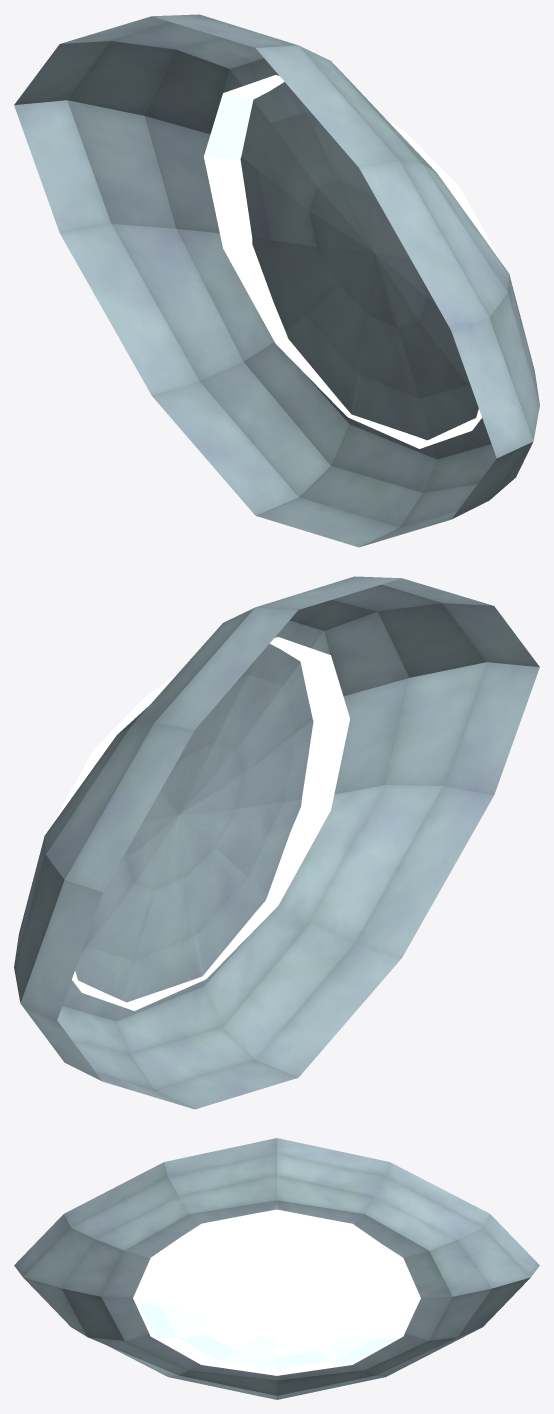
File: ass_13_lights(wall).fbx
3 renders of one model, top to bottom at view 1: azimuth 30°, elevation 25°; view 2: azimuth 150°, elevation 25°; view 3: azimuth 270°, elevation 25°, orthographic. The views are drawn at different scales.
Visible parts, largest first — view 1: pSphere3; view 2: pSphere3; view 3: pSphere3.
Boxes of the visible parts, left/top/right/bottom form: pSphere3: left=14, top=14, right=539, bottom=547; pSphere3: left=14, top=576, right=539, bottom=1109; pSphere3: left=14, top=1138, right=539, bottom=1399.
Bounding box in the file's own units: 16.31 × 38.09 × 71.26.
Materials: 2 (2 with a texture image).
